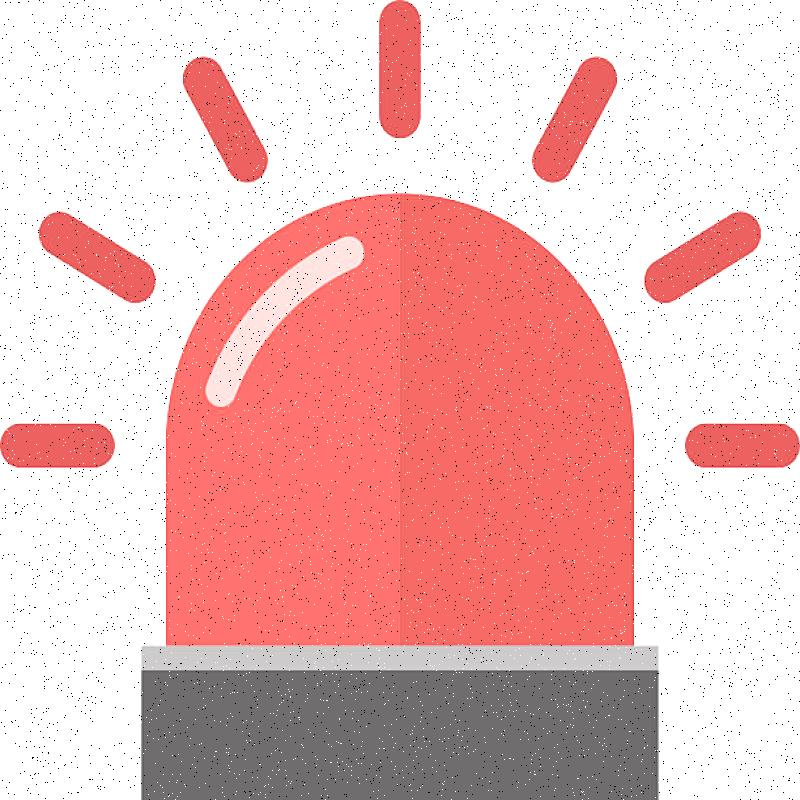AmbulanceSiren: (47, 143, 734, 800)
